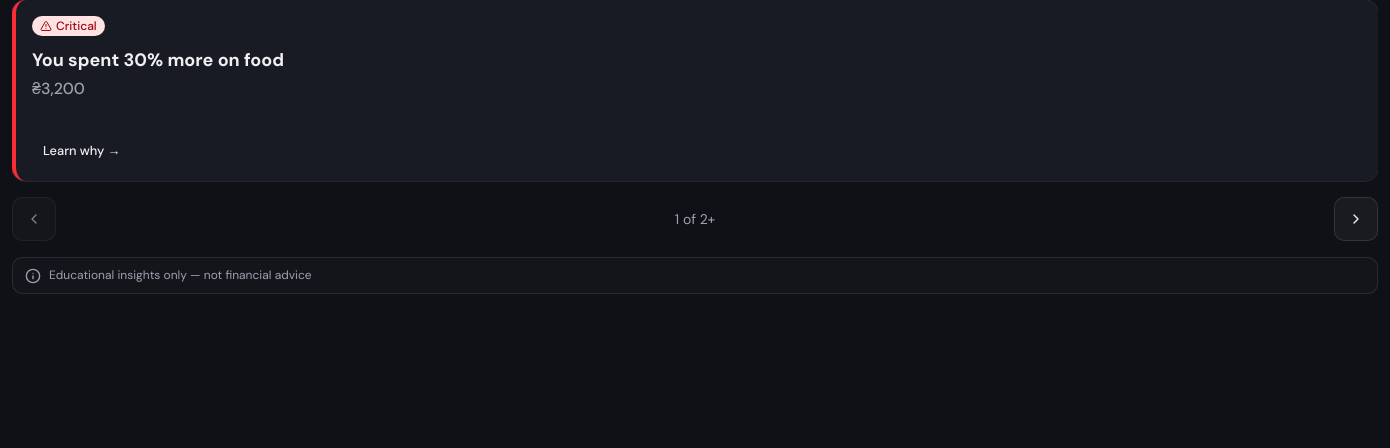
Test: FeedContainer › shows inline retry when pagination error occurs but keeps loaded cards visible (AC #4)
This screenshot has width=1390, height=448.
expect the heading "You spent 30% more on food" is shown: met, box [32,48,284,72]
# Navigate to last card to trigger onLoadMore
Click the button named "next insight": point(1356, 219) [1334,197,1378,241]
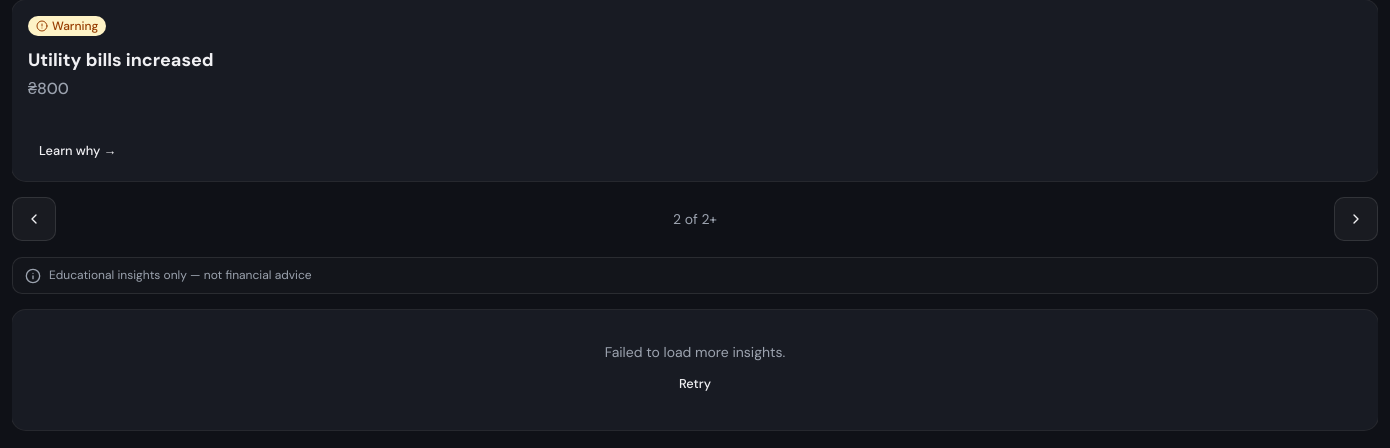
expect the text "Failed to load more insights." is shown: met, box [605,343,785,361]
expect the heading "Utility bills increased" is shown: met, box [28,48,214,72]
expect the button "Retry" is shown: met, box [668,370,722,398]
